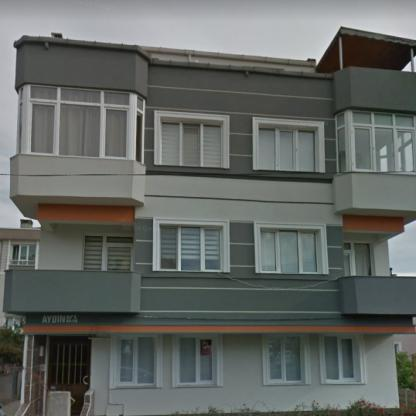door: (47, 337, 89, 415), (106, 245, 134, 271), (344, 251, 350, 276)
window: (18, 87, 146, 162), (336, 110, 414, 174), (157, 223, 225, 271), (259, 225, 325, 273), (159, 118, 222, 167), (258, 124, 318, 171), (115, 335, 158, 386), (175, 334, 217, 385), (267, 335, 305, 384), (321, 334, 361, 380), (84, 236, 133, 270), (345, 243, 374, 275), (11, 242, 36, 265)
